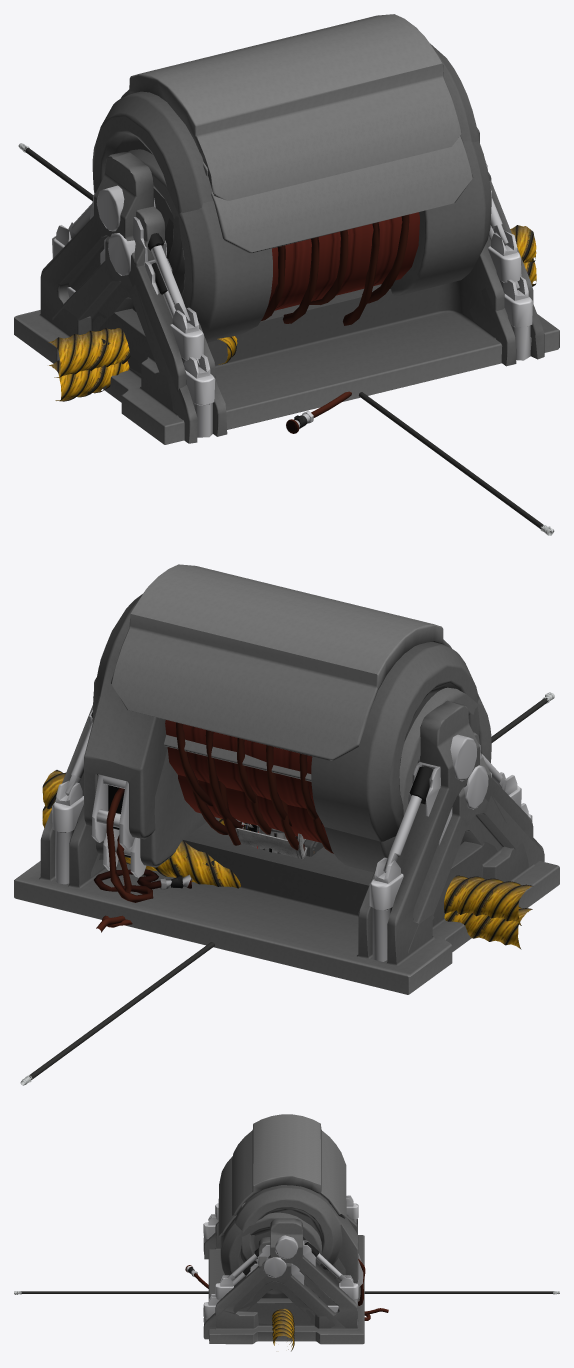
File: schlauch.glb
3 renders of one model, top to bottom at view 1: azimuth 30°, elevation 25°; view 2: azimuth 150°, elevation 25°; view 3: azimuth 270°, elevation 25°, orthographic. The views are drawn at different scales.
Visible parts, largest first — view 1: prop_schlauch_hose_reel_1_065x045x045_b, prop_schlauch_hose_reel_1_065x045x045_a, prop_schlauch_lt_airduct_hose_straight_8m_a_hung, prop_schlauch_maintenance_hose_1_a, prop_schlauch_lt_airduct_hose_straight_8m_a, prop_schlauch_hose_floor_1_c; view 2: prop_schlauch_hose_reel_1_065x045x045_b, prop_schlauch_hose_reel_1_065x045x045_a, prop_schlauch_lt_airduct_hose_straight_8m_a_hung, prop_schlauch_lt_airduct_hose_corner_45_1m_a_hung_b, prop_schlauch_maintenance_hose_1_a, prop_schlauch_lt_airduct_hose_straight_8m_a, prop_schlauch_lt_sm_airduct_fan_a; view 3: prop_schlauch_hose_reel_1_065x045x045_b, prop_schlauch_hose_reel_1_065x045x045_a, prop_schlauch_maintenance_hose_1_a, prop_schlauch_lt_airduct_hose_straight_8m_a_hung, prop_schlauch_lt_airduct_hose_straight_8m_a.
Part boxes in pixels (x1,y1,x2,y2): prop_schlauch_hose_reel_1_065x045x045_b: [14, 14, 559, 444]; prop_schlauch_hose_reel_1_065x045x045_a: [52, 135, 544, 443]; prop_schlauch_lt_airduct_hose_straight_8m_a_hung: [48, 225, 536, 377]; prop_schlauch_maintenance_hose_1_a: [18, 143, 554, 535]; prop_schlauch_lt_airduct_hose_straight_8m_a: [49, 258, 536, 401]; prop_schlauch_hose_floor_1_c: [286, 391, 351, 433]; prop_schlauch_hose_reel_1_065x045x045_b: [14, 564, 559, 994]; prop_schlauch_hose_reel_1_065x045x045_a: [90, 687, 544, 953]; prop_schlauch_lt_airduct_hose_straight_8m_a_hung: [42, 770, 532, 925]; prop_schlauch_lt_airduct_hose_corner_45_1m_a_hung_b: [125, 841, 240, 888]; prop_schlauch_maintenance_hose_1_a: [20, 692, 554, 1085]; prop_schlauch_lt_airduct_hose_straight_8m_a: [42, 806, 532, 949]; prop_schlauch_lt_sm_airduct_fan_a: [235, 819, 304, 859]; prop_schlauch_hose_reel_1_065x045x045_b: [208, 1114, 365, 1344]; prop_schlauch_hose_reel_1_065x045x045_a: [203, 1156, 370, 1339]; prop_schlauch_maintenance_hose_1_a: [14, 1291, 559, 1294]; prop_schlauch_lt_airduct_hose_straight_8m_a_hung: [272, 1308, 294, 1339]; prop_schlauch_lt_airduct_hose_straight_8m_a: [272, 1324, 294, 1351].
Bounding box in the file's own units: 7.96 × 4.63 × 15.32.
31 materials, 28 textured.
